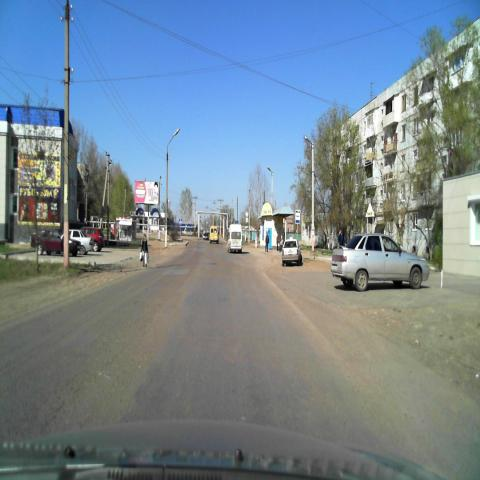5_16: (295, 210, 300, 224)
